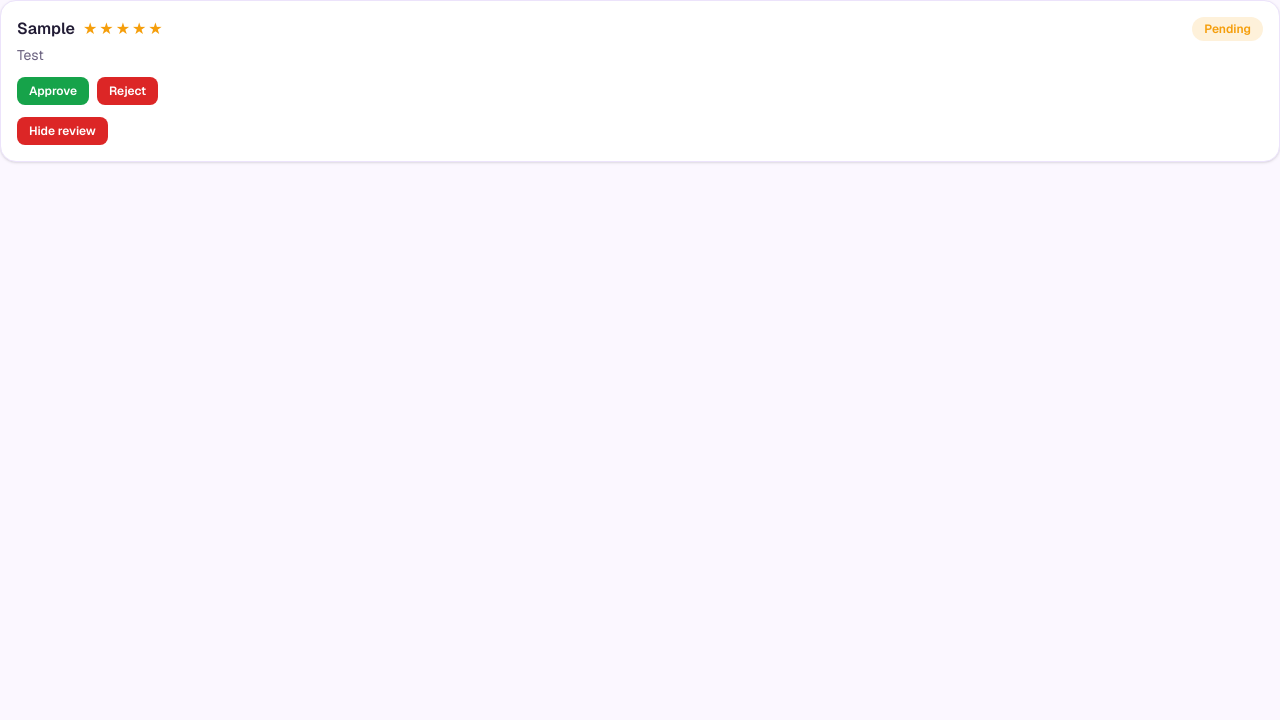
Test: reports review mutation failures without changing the review, then supports retry
Click the button "Approve": (53, 91) 17,77 -> 89,105
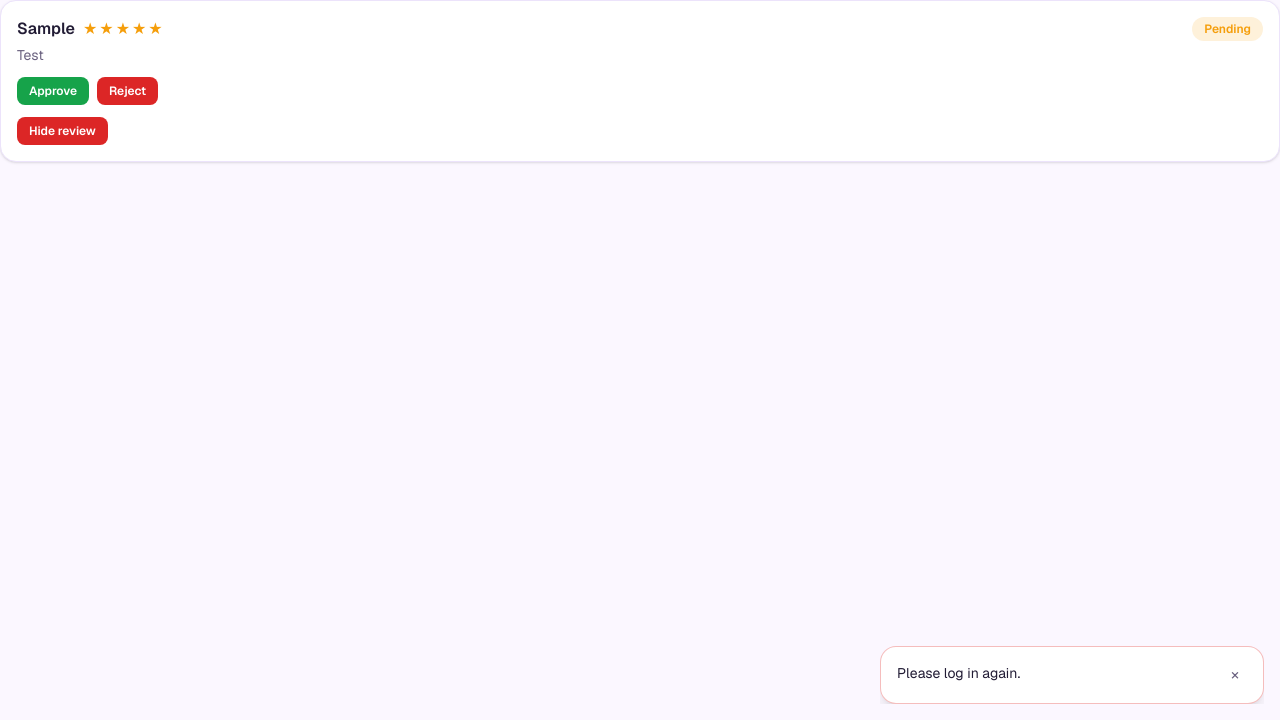
Expected: the text "Please log in again." is shown, 897,664 -> 1020,682
Click the button "Approve": (53, 91) 17,77 -> 89,105
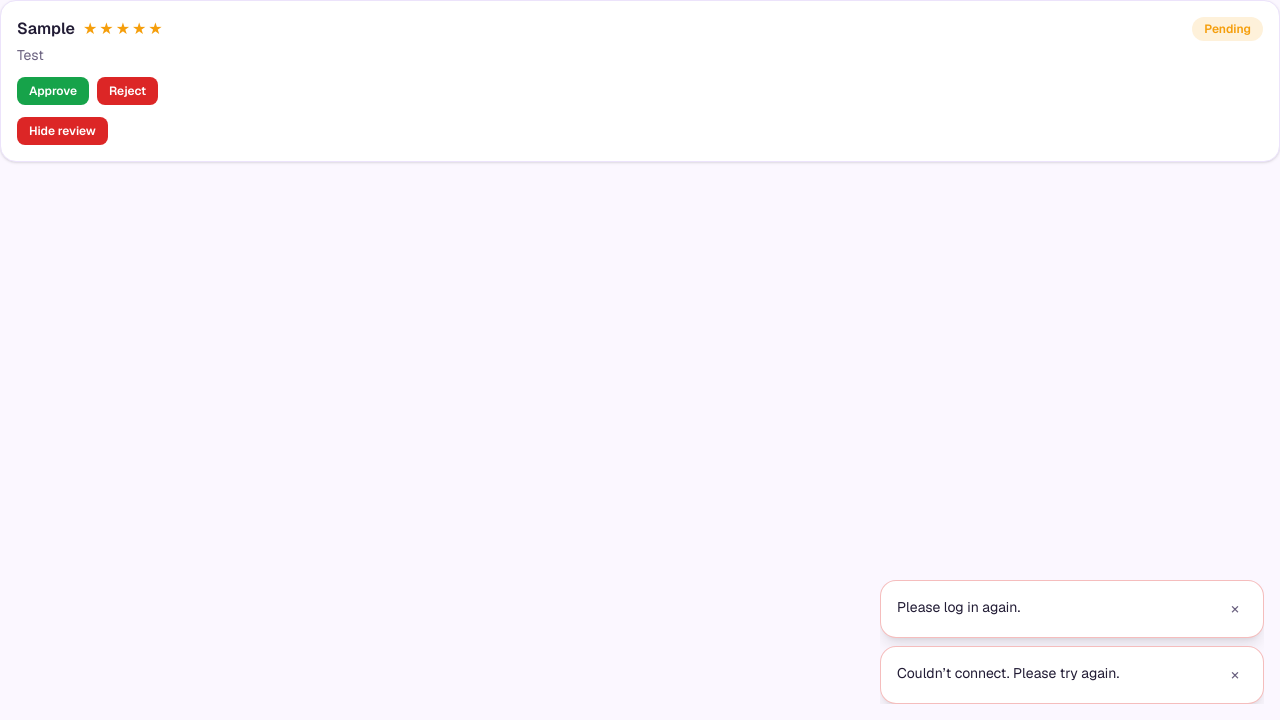
Expected: the text "Couldn’t connect. Please try again." is shown, 897,664 -> 1119,682
Click the button "Approve": (53, 91) 17,77 -> 89,105
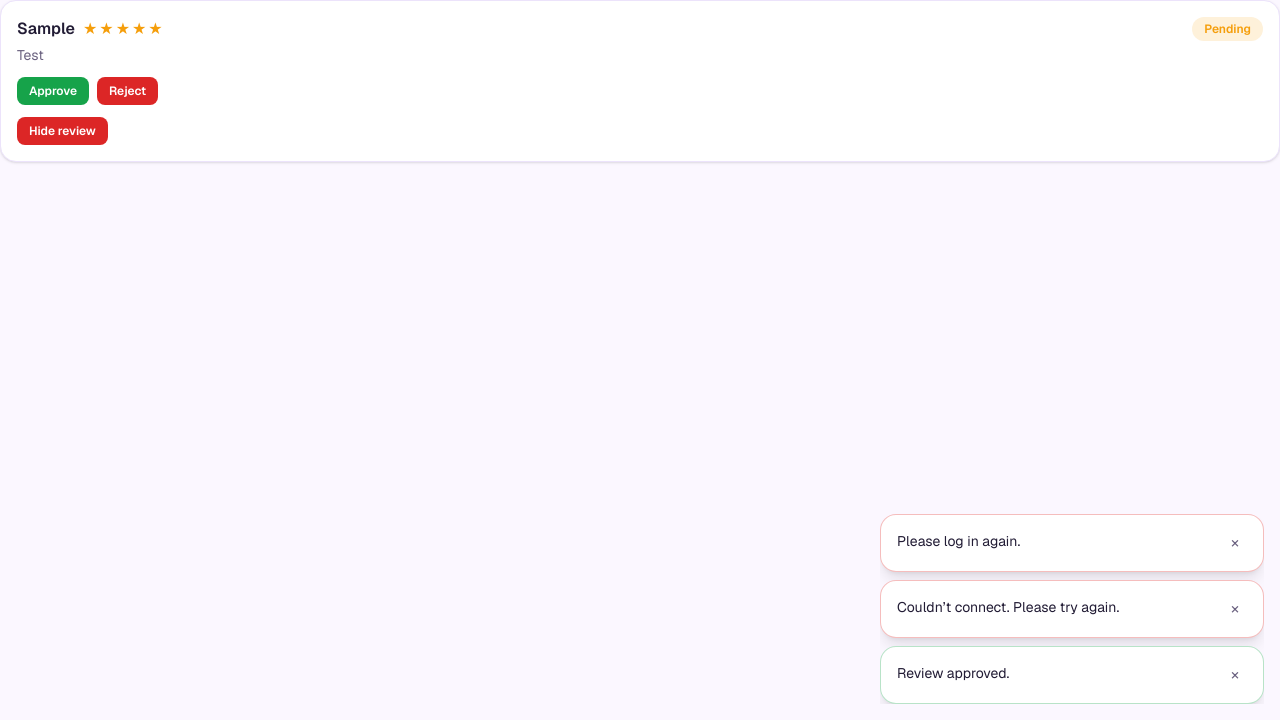
Expected: the text "Review approved." is shown, 897,664 -> 1009,682
